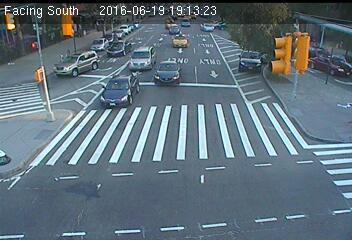neg: (65, 168, 92, 205), (31, 115, 58, 151), (252, 181, 279, 216), (178, 134, 203, 166), (55, 71, 79, 103), (128, 37, 152, 69), (113, 81, 136, 111), (311, 70, 334, 100), (253, 110, 274, 139), (269, 42, 288, 68), (206, 57, 225, 82), (121, 166, 139, 190), (92, 32, 108, 54)
